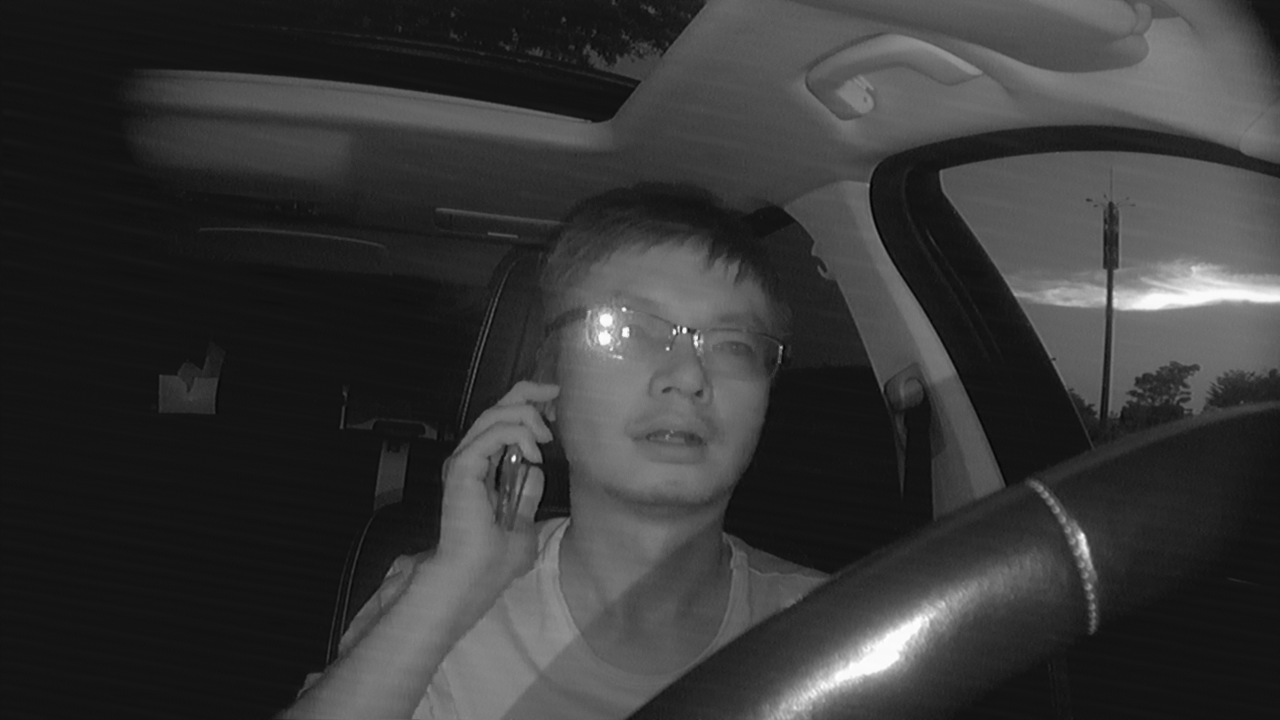hand: (423, 380, 564, 574)
